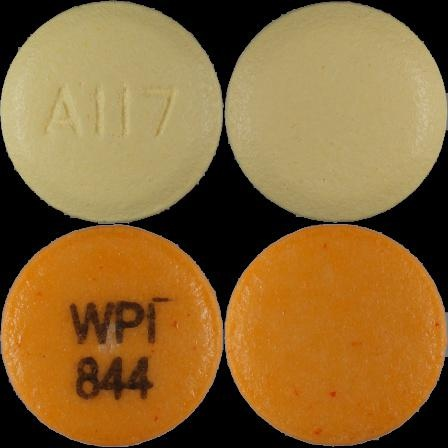10370-117: (0, 0, 224, 224)
